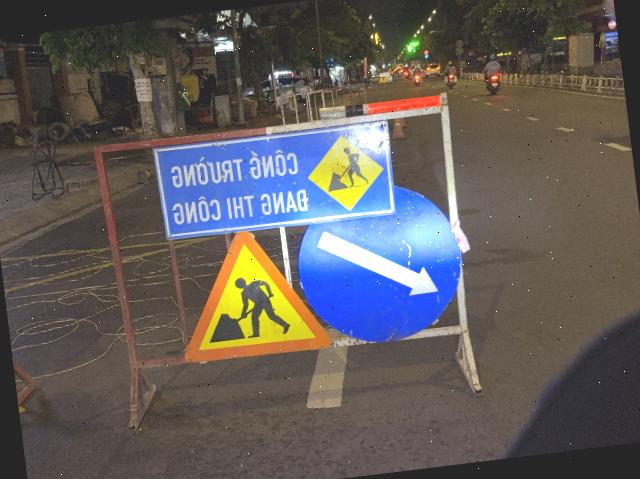cong-truong-dang-thi-cong: (169, 221, 333, 366)
huong-phai-di-vong-chuong-ngai-vat: (290, 178, 470, 352)
